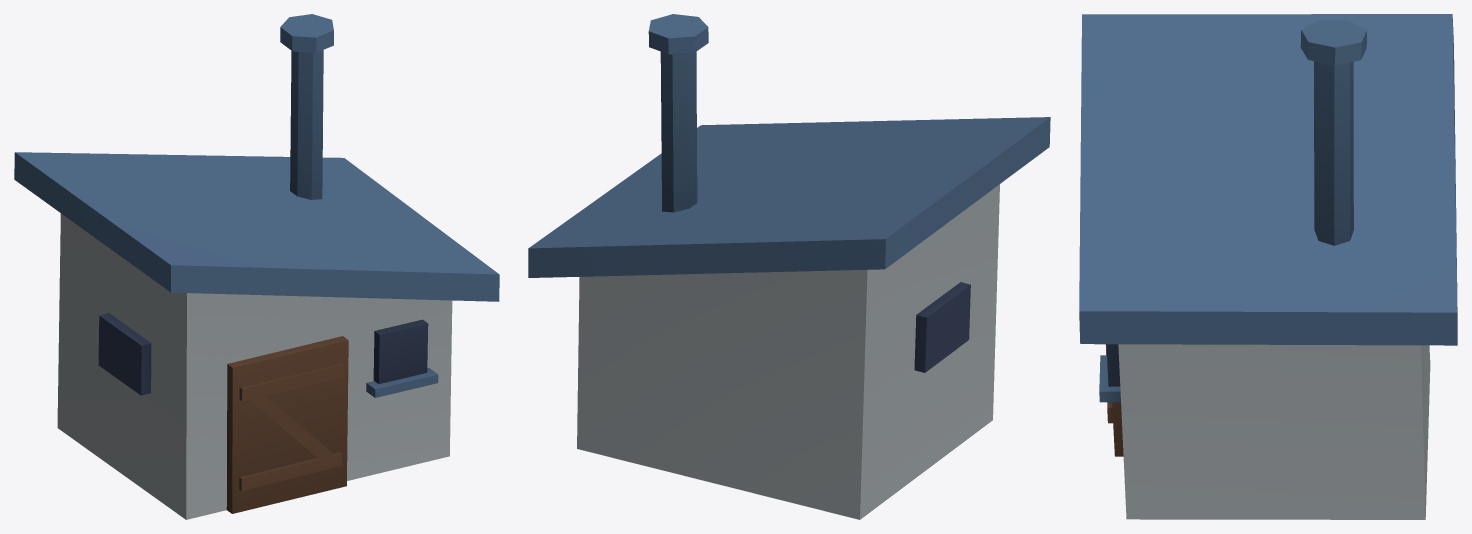
File: building-2.glb
3 views of the same model, side by side, from view 1: azimuth 30°, elevation 25°; view 2: azimuth 150°, elevation 25°; view 3: azimuth 270°, elevation 25° (orthographic). The views are drawn at different scales.
Visible parts, largest first — view 1: building; view 2: building; view 3: building.
Part boxes in pixels (box(x1,y1,x2,y2)): building: box(14, 14, 499, 519); building: box(528, 14, 1050, 519); building: box(1079, 14, 1457, 519).
Size of the model in its own units: 1.37 by 1.5 by 1.13.
